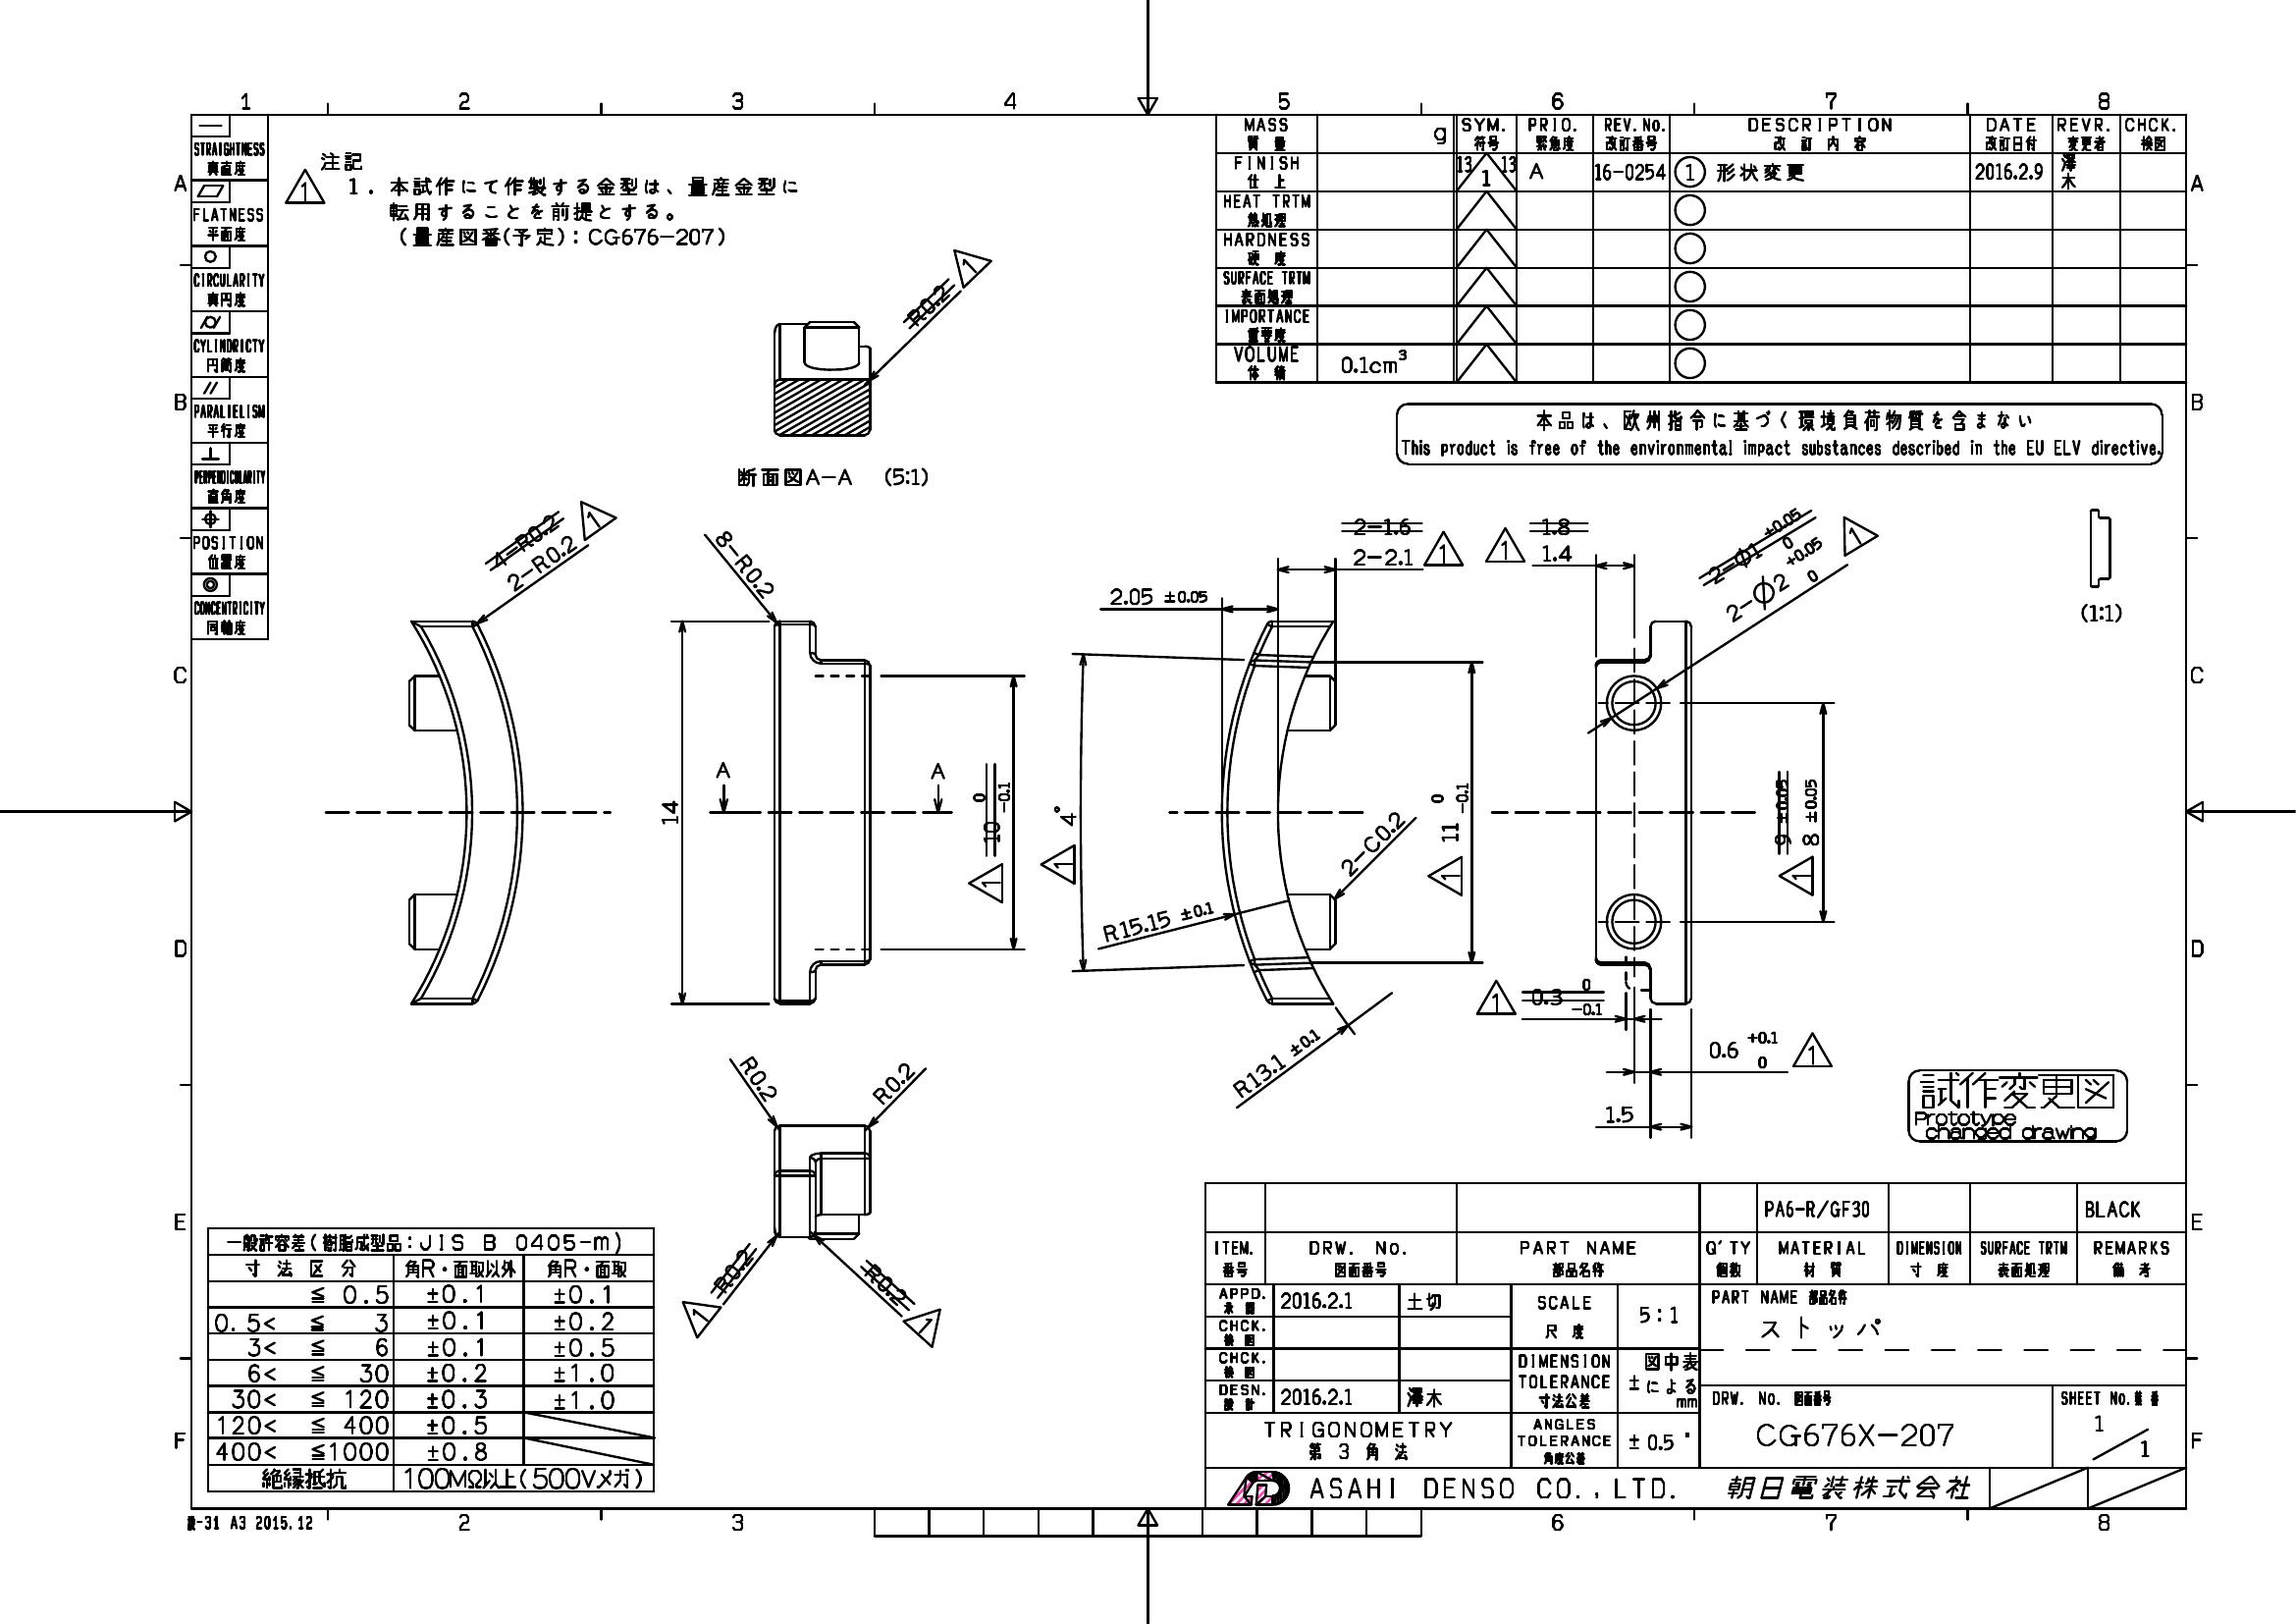anntotation_text: (1393, 401, 2166, 466), (283, 151, 798, 248), (1906, 1067, 2129, 1142), (734, 464, 928, 490), (1841, 515, 1880, 557), (1474, 977, 1516, 1016), (966, 861, 1005, 902), (1425, 854, 1463, 895), (1483, 526, 1525, 562), (1790, 1032, 1832, 1069), (1776, 856, 1815, 895), (1038, 844, 1075, 884), (1421, 531, 1463, 566), (678, 1302, 720, 1338), (956, 246, 994, 283), (906, 1313, 947, 1348), (581, 497, 617, 538), (2080, 601, 2122, 622), (713, 759, 729, 780), (929, 761, 945, 780)
dimension_text: (1718, 564, 1836, 601), (1708, 1030, 1778, 1070), (1101, 909, 1214, 930), (1430, 782, 1469, 842), (1110, 587, 1209, 608), (1224, 1053, 1326, 1070), (706, 554, 787, 575), (1332, 833, 1412, 852), (502, 554, 581, 571), (1801, 777, 1820, 847), (1353, 547, 1414, 566), (736, 1069, 783, 1088), (870, 1074, 919, 1091), (1542, 543, 1572, 562), (1606, 1106, 1634, 1123), (1054, 805, 1077, 826), (659, 800, 678, 824)
object: (1217, 619, 1339, 1007), (406, 619, 525, 1007), (771, 617, 873, 1007), (1593, 619, 1693, 1007), (771, 318, 873, 438), (773, 1125, 873, 1241), (2089, 506, 2113, 589)
title_block: (1203, 1183, 2189, 1512), (1214, 112, 2191, 385), (204, 1225, 655, 1494), (188, 112, 271, 642)
